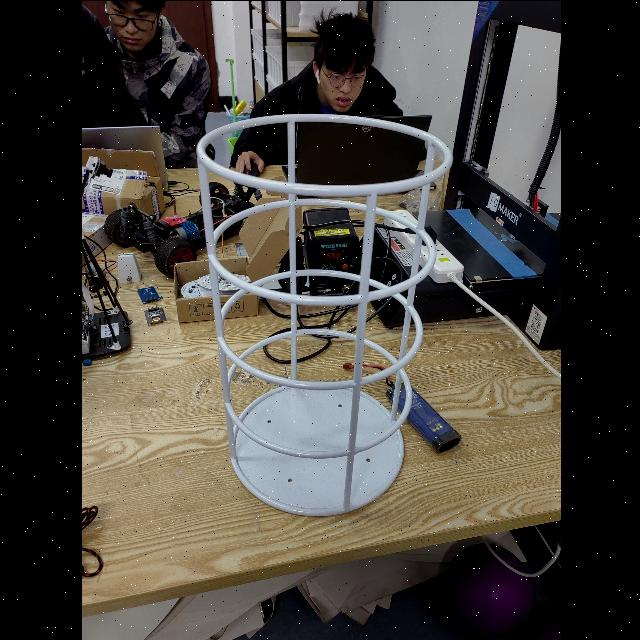S: (192, 109, 458, 522)
